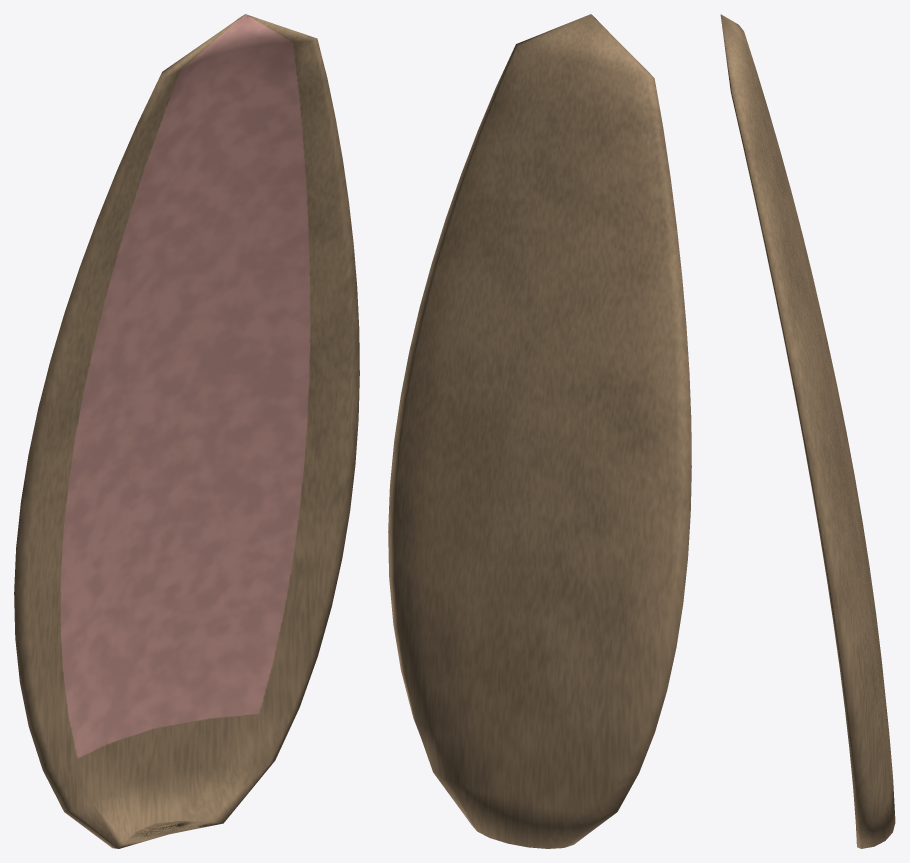
The model's file is cpart_ear_long.glb.
3 views of the same model, side by side, from view 1: azimuth 30°, elevation 25°; view 2: azimuth 150°, elevation 25°; view 3: azimuth 270°, elevation 25° (orthographic). The views are drawn at different scales.
Parts seen in each view (by area): view 1: EarLong; view 2: EarLong; view 3: EarLong.
Part boxes in pixels (bbox=[...]): EarLong: bbox=[14, 14, 359, 848]; EarLong: bbox=[388, 14, 691, 848]; EarLong: bbox=[720, 14, 895, 848].
Size of the model in its own units: 0.09 by 0.222 by 0.0435.
2 materials, 2 textured.
